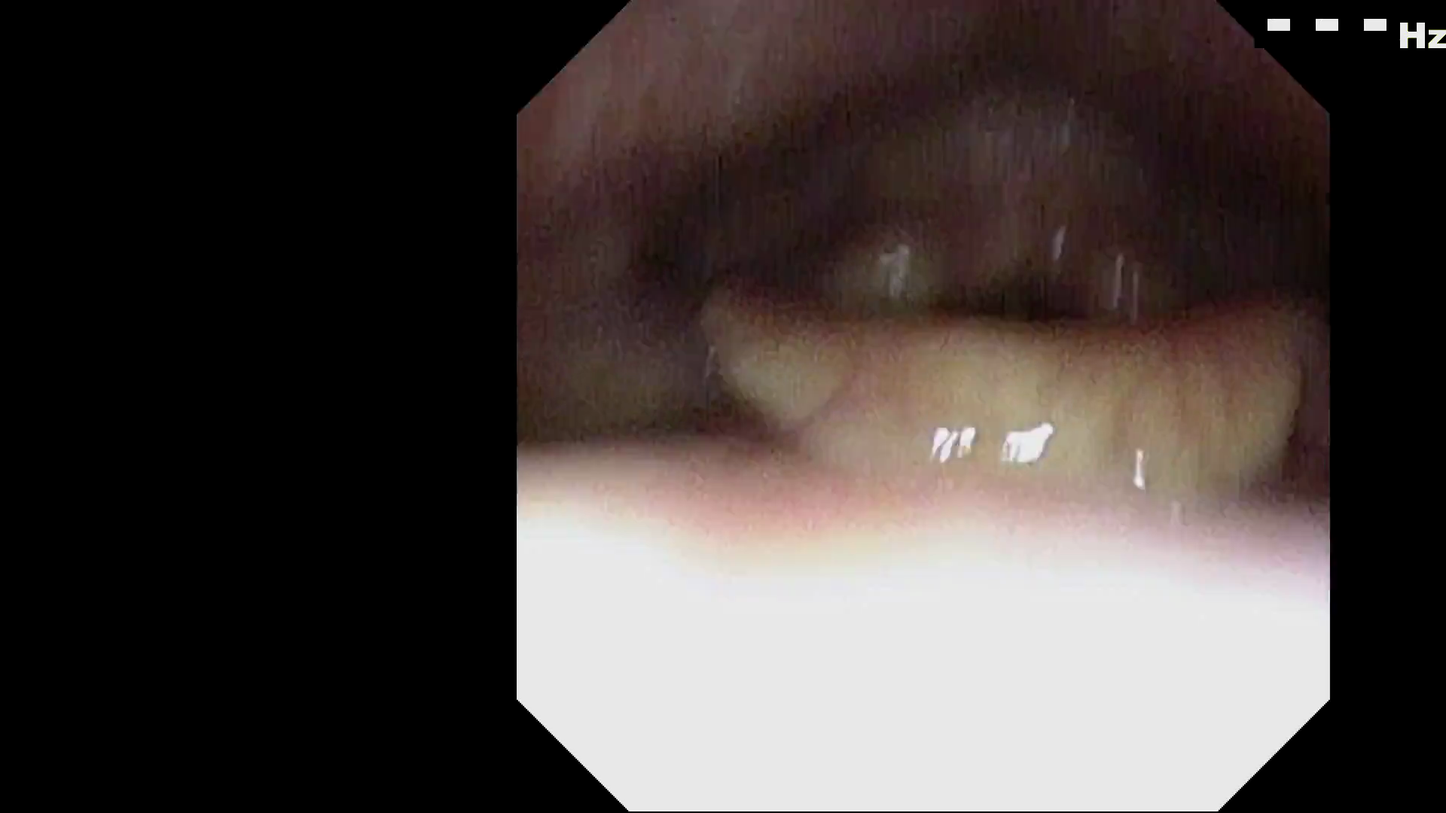epiglottis: (660, 502, 1220, 709)
trachea: (903, 442, 990, 553)
